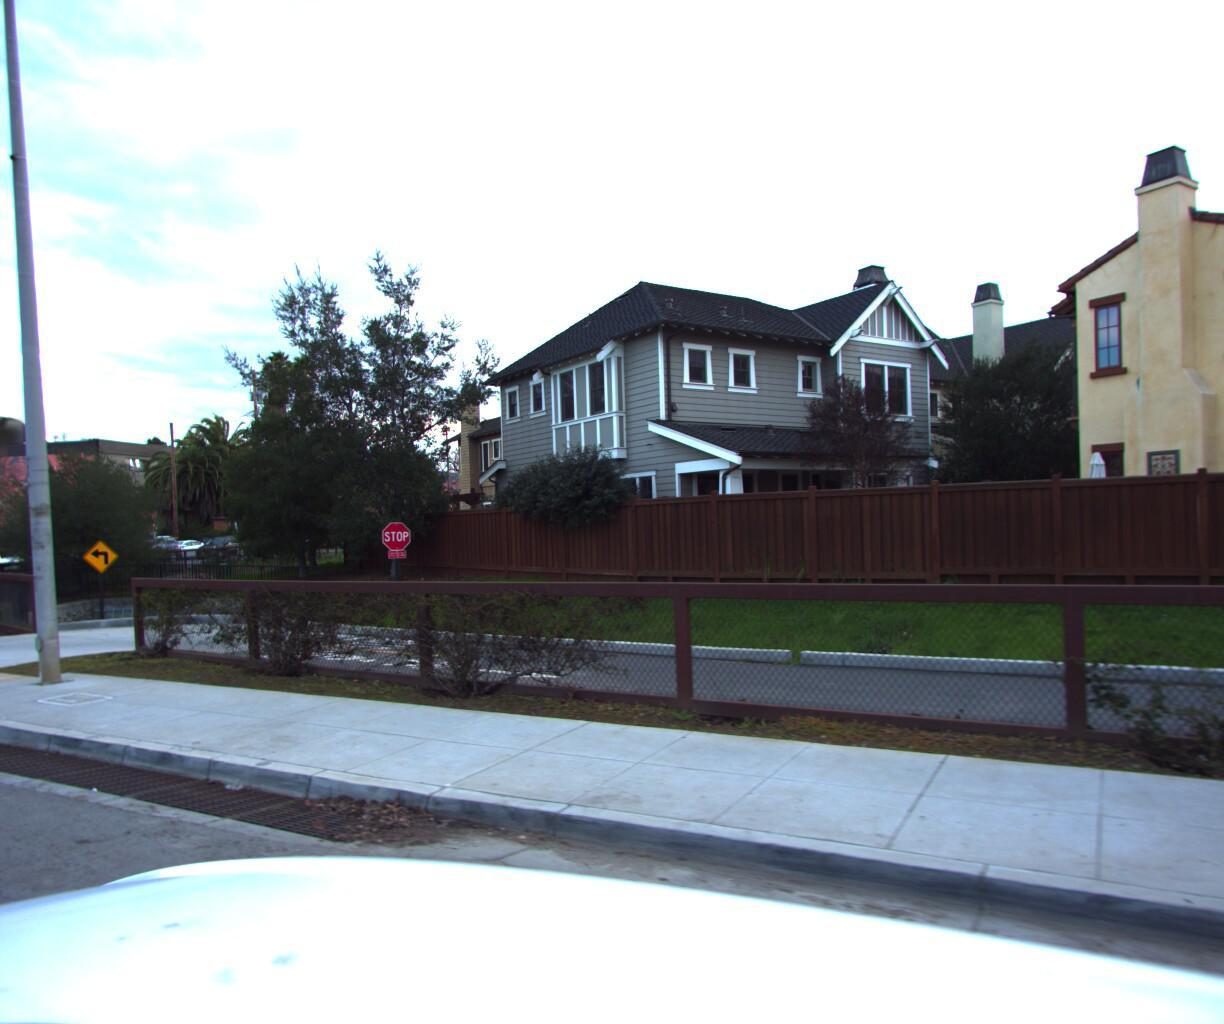car: (146, 532, 211, 557), (0, 541, 10, 573)
